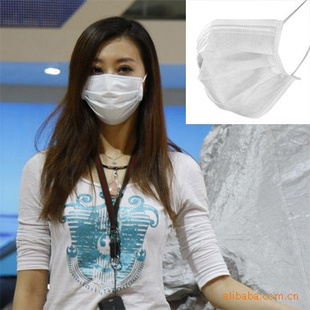face_mask: (82, 36, 144, 121)
